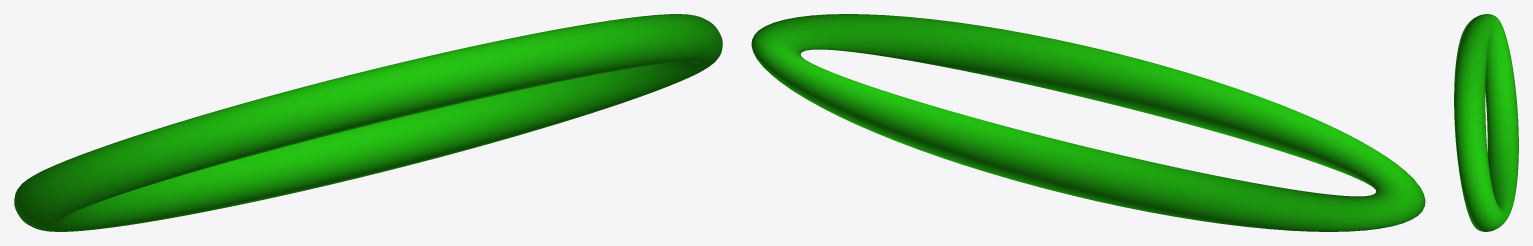
File: zcollar-grn-3d.glb
3 renders of one model, left to right at view 1: azimuth 30°, elevation 25°; view 2: azimuth 150°, elevation 25°; view 3: azimuth 270°, elevation 25°, orthographic. The views are drawn at different scales.
Parts seen in each view (by area): view 1: mesh_id38; view 2: mesh_id38; view 3: mesh_id38.
Part boxes in pixels (x1,y1,x2,y2): mesh_id38: [14, 14, 722, 231]; mesh_id38: [751, 14, 1425, 231]; mesh_id38: [1454, 14, 1518, 231].
Size of the model in its own units: 0.3199 by 0.0551 by 0.0436.
Materials: 1 (1 with a texture image).
